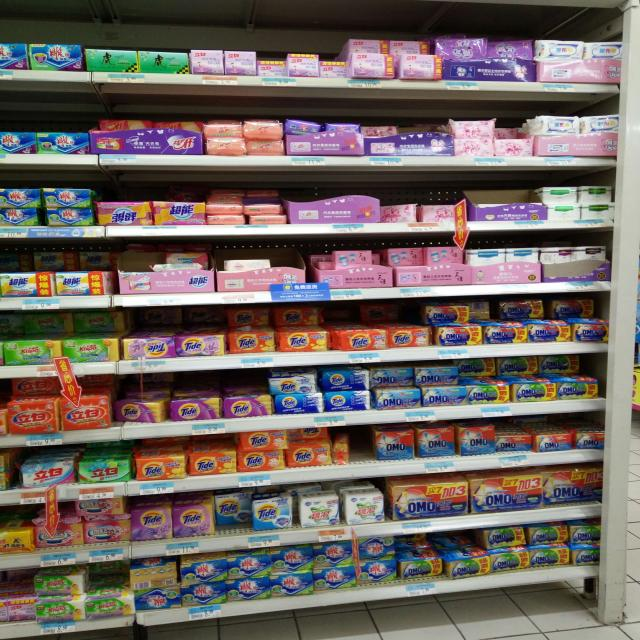unorganised: (1, 183, 95, 226), (4, 312, 124, 337), (213, 495, 294, 532), (453, 358, 594, 379), (284, 426, 347, 470), (498, 296, 605, 320), (223, 305, 323, 329), (98, 116, 205, 135), (32, 251, 117, 272), (349, 34, 433, 53), (111, 396, 170, 423), (32, 570, 84, 598), (95, 201, 152, 226), (130, 565, 178, 592), (545, 185, 613, 204), (149, 253, 210, 274), (487, 37, 536, 60), (244, 200, 289, 223), (426, 304, 472, 326), (379, 201, 425, 222), (361, 303, 408, 323), (495, 431, 535, 454), (370, 366, 414, 386), (285, 116, 323, 138), (362, 119, 398, 140), (493, 120, 532, 139), (389, 248, 426, 268), (256, 53, 287, 74), (319, 56, 347, 77), (473, 300, 494, 320)
